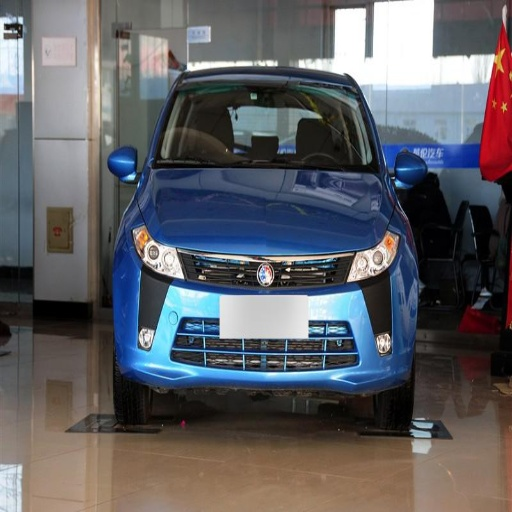front_bumper: (115, 248, 411, 395)
front_right_light: (134, 227, 182, 281)
hood: (141, 167, 392, 256)
left_mirror: (394, 149, 431, 191)
